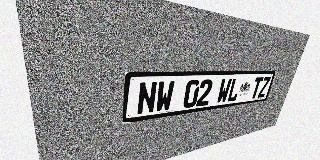0: (182, 80, 201, 109)
2: (196, 79, 214, 107)
L: (226, 78, 242, 102)
N: (136, 81, 158, 115)
T: (249, 77, 264, 99)
W: (155, 81, 175, 113), (216, 78, 232, 104)
Z: (257, 77, 271, 98)
